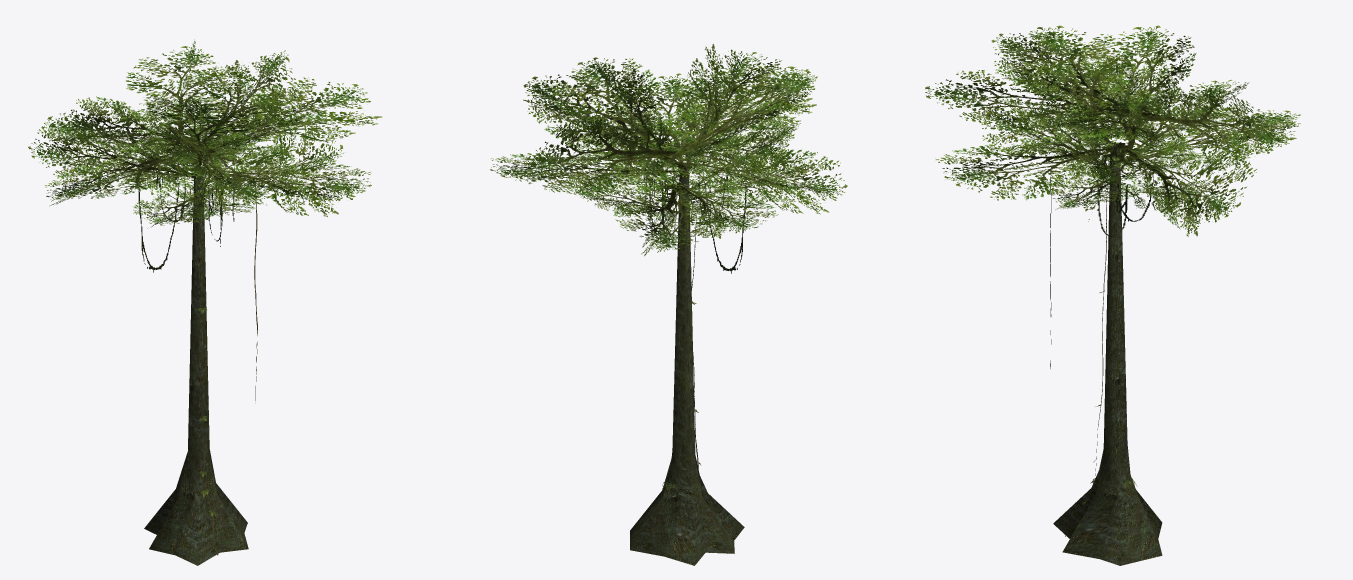
The picture shows the model from 3 angles, left to right: view 1: azimuth 30°, elevation 25°; view 2: azimuth 150°, elevation 25°; view 3: azimuth 270°, elevation 25°; orthographic projection. The views are drawn at different scales.
Visible parts, largest first — view 1: _TT03A; view 2: _TT03A; view 3: _TT03A.
Part boxes in pixels (box(x1,y1,x2,y2)): _TT03A: box(28, 39, 381, 565); _TT03A: box(490, 44, 847, 565); _TT03A: box(925, 25, 1300, 565).
Bounding box in the file's own units: 18.16 × 21.08 × 16.51.
Materials: 3 (3 with a texture image).
